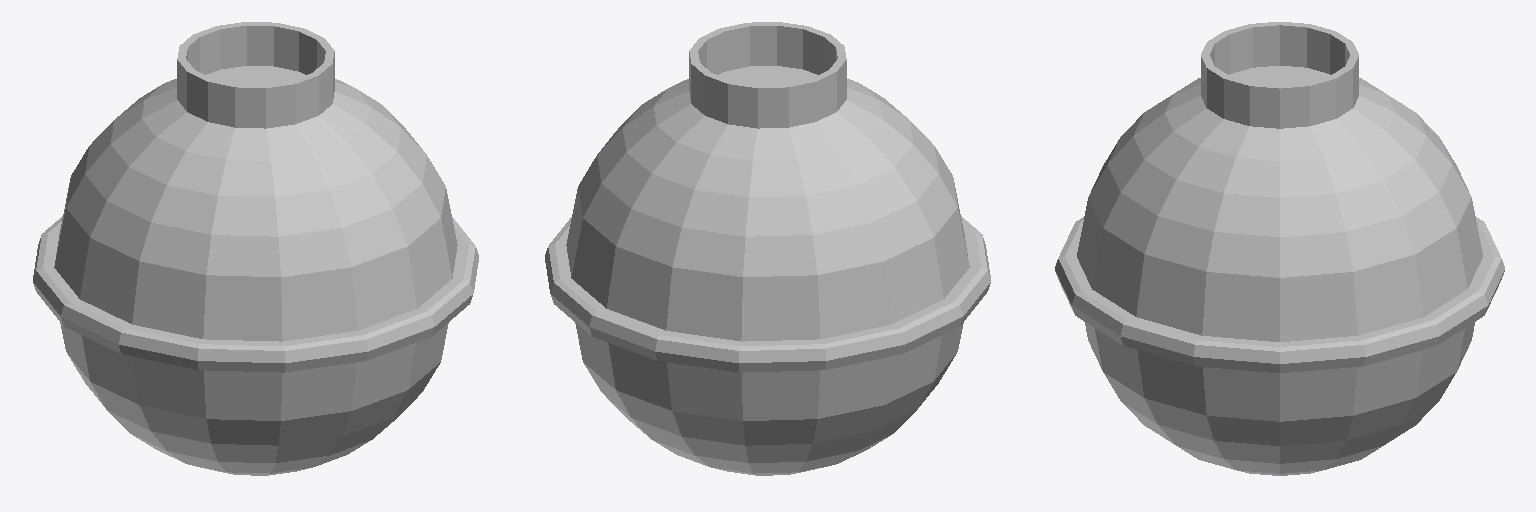
File: bobber_1.obj
The picture shows the model from 3 angles: view 1: azimuth 30°, elevation 25°; view 2: azimuth 150°, elevation 25°; view 3: azimuth 270°, elevation 25°; orthographic projection.
Parts seen in each view (by area): view 1: Sphere; view 2: Sphere; view 3: Sphere.
Boxes of the visible parts, x1,y1,x2,y2 form: Sphere: [33, 22, 478, 475]; Sphere: [545, 22, 990, 475]; Sphere: [1055, 22, 1504, 475].
Size of the model in its own units: 2.17 by 2.14 by 2.17.